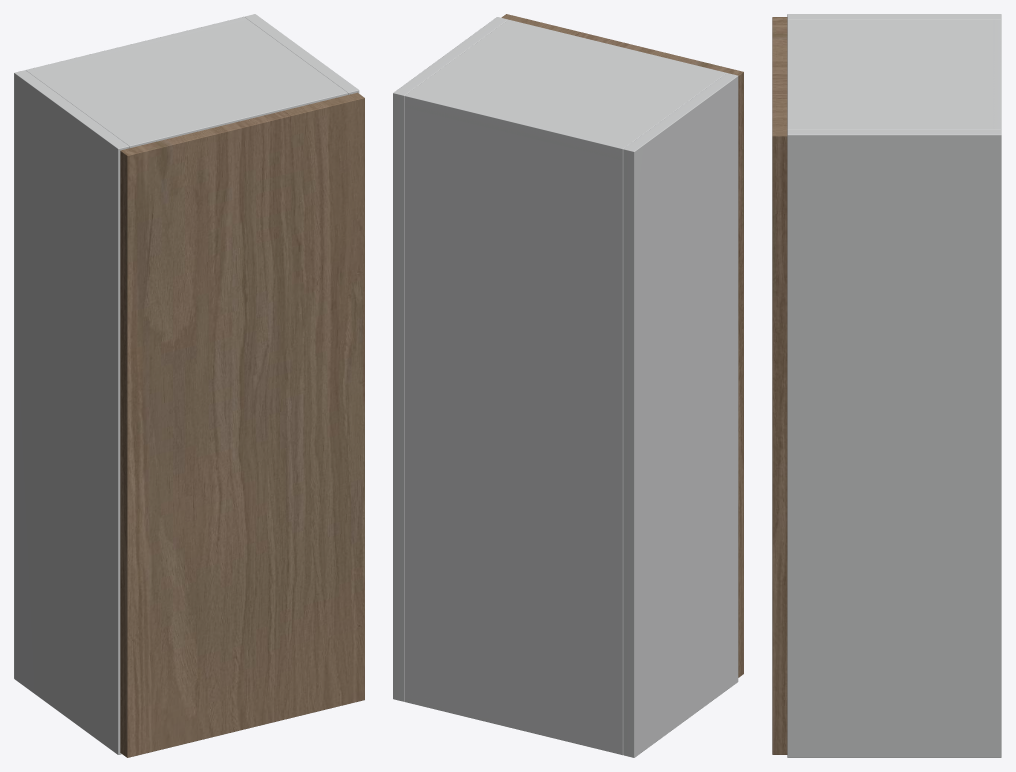
The model's file is oppein-pb-mnw-w1536.glb.
The picture shows the model from 3 angles, left to right: view 1: azimuth 30°, elevation 25°; view 2: azimuth 150°, elevation 25°; view 3: azimuth 270°, elevation 25°; orthographic projection. The views are drawn at different scales.
Parts seen in each view (by area): view 1: Door, Cabinet side, Cabinet top, Cabinet side.001, Cabinet back; view 2: Cabinet back, Cabinet side, Cabinet top, Cabinet side.001, Door; view 3: Cabinet side.001, Cabinet top, Door, Cabinet side, Cabinet back.
Boxes of the visible parts, <box> form: Door: <box>120,92,364,757</box>; Cabinet side: <box>14,70,129,754</box>; Cabinet top: <box>26,19,347,148</box>; Cabinet side.001: <box>244,14,359,94</box>; Cabinet back: <box>26,17,247,72</box>; Cabinet back: <box>404,93,626,754</box>; Cabinet side: <box>623,73,738,757</box>; Cabinet top: <box>405,19,726,159</box>; Cabinet side.001: <box>393,17,507,701</box>; Door: <box>501,14,743,677</box>; Cabinet side.001: <box>787,129,1001,757</box>; Cabinet top: <box>787,19,1001,129</box>; Door: <box>772,17,787,754</box>; Cabinet side: <box>787,14,1001,19</box>; Cabinet back: <box>993,19,1001,129</box>.
Bounding box in the file's own units: 0.381 × 0.9144 × 0.3048.
Materials: 2 (1 with a texture image).
